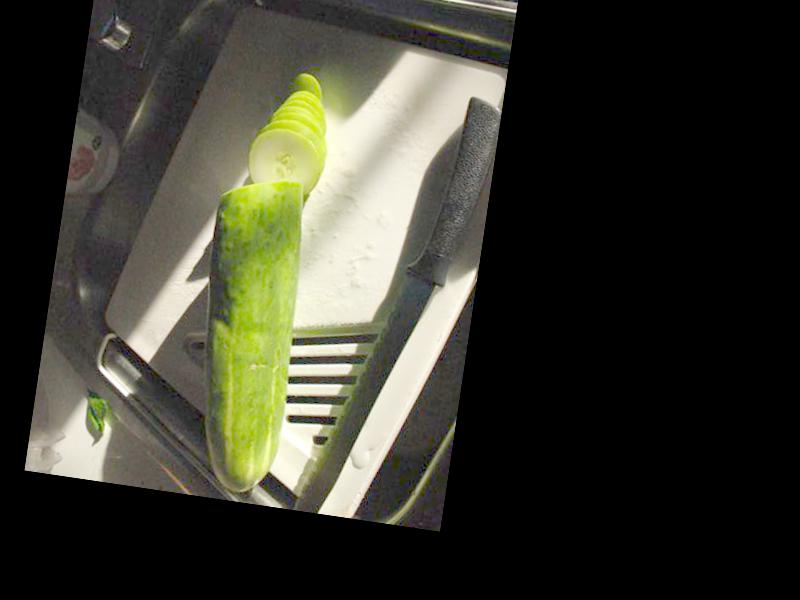Cucumber: (177, 169, 318, 497)
